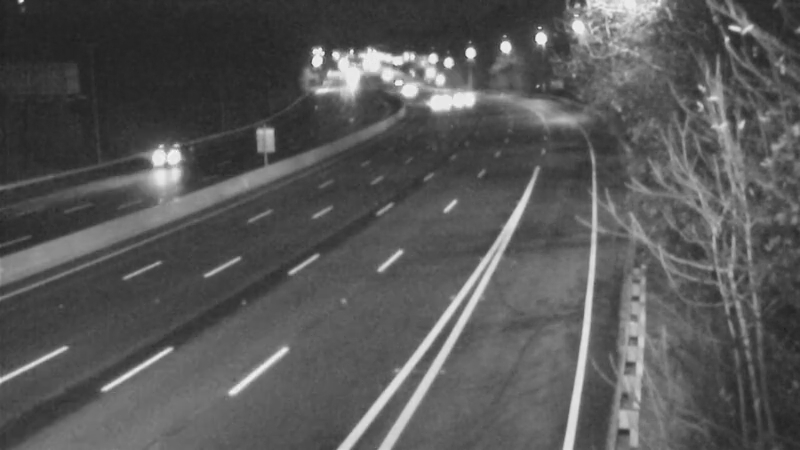vehicle: (125, 122, 205, 202), (374, 58, 424, 108), (436, 71, 486, 121), (383, 63, 433, 113), (411, 75, 461, 125)
